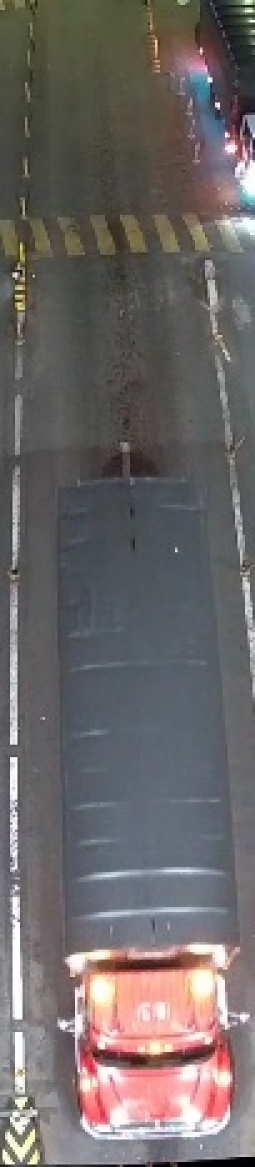truck: (48, 468, 240, 1148), (181, 0, 254, 210)
